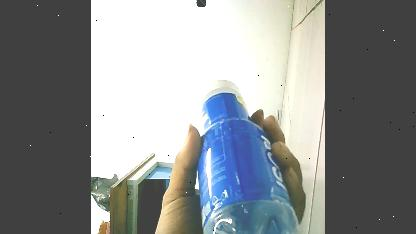Plastic Bottle: (177, 74, 302, 234)
